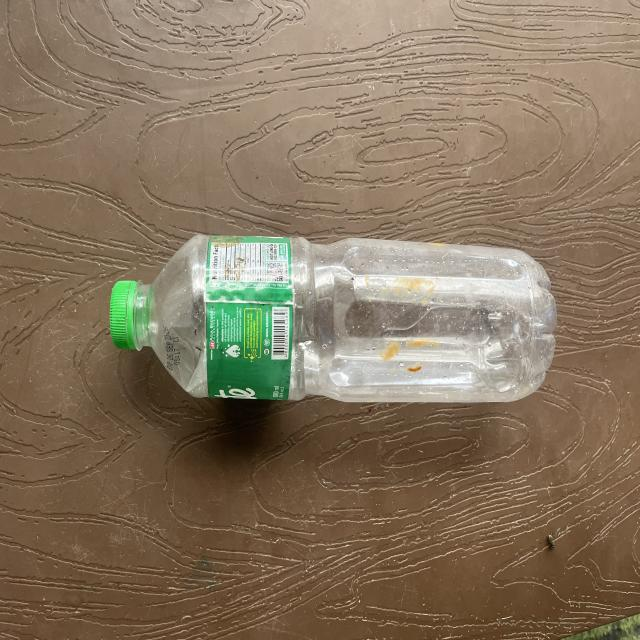REJECT: (109, 229, 515, 424)
